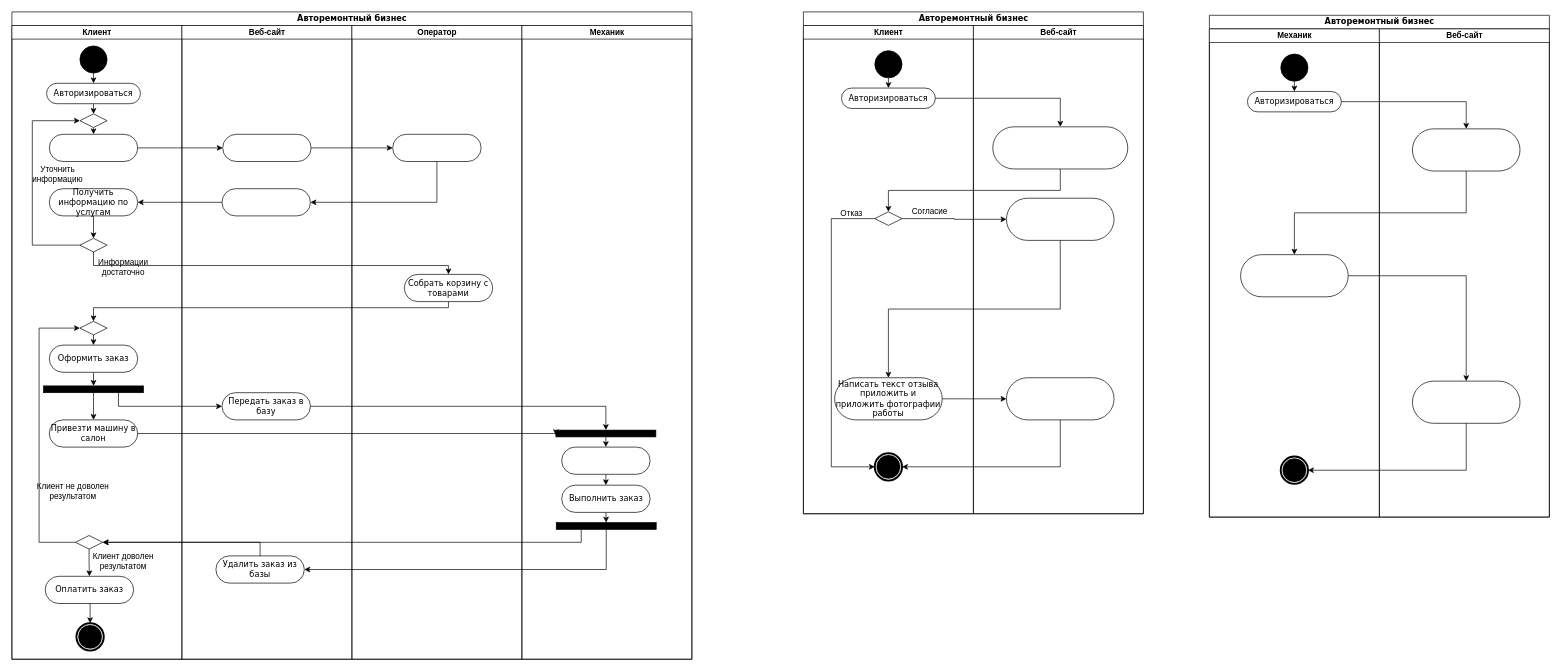
The diagram is 1561 pixels wide and 671 high, and some of its shapes have lost their labels. Each missing label, with the box of its shape:
Дать ответ на вопрос: (392, 134, 481, 162)
Заполнить форму: (1240, 254, 1348, 297)
Отправить уведомление с предложением оставить отзыв: (992, 126, 1128, 169)
Отправить форму для написания отзыва: (1006, 198, 1114, 240)
Отправить форму для публикации работы: (1412, 128, 1520, 171)
Передать вопрос оператору: (222, 134, 311, 162)
Передать ответ клиенту: (221, 188, 310, 216)
Положить отзыв в базу и опубликовать на сайте: (1006, 377, 1114, 420)
Положить пример работы в базу и опубликовать на сайте: (1412, 380, 1520, 423)
Принять заказ в работу: (561, 446, 650, 474)
Узнать информацию по услугам: (49, 134, 138, 162)
